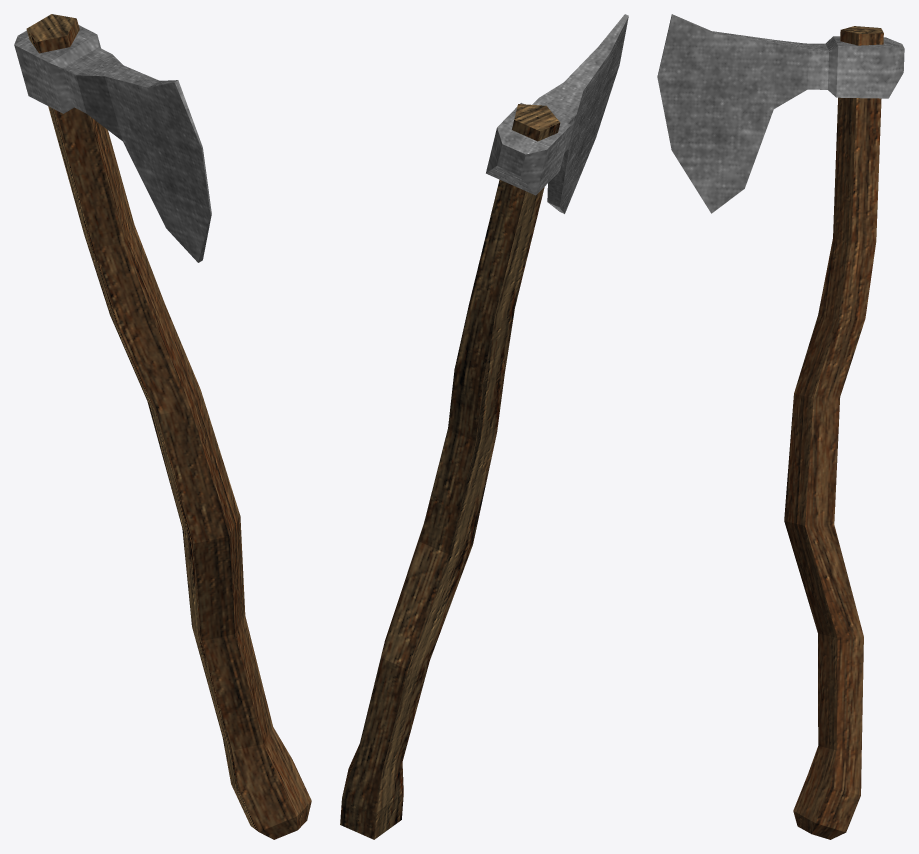
Rendered from Axe_FPS.gltf.
3 views of the same model, side by side, from view 1: azimuth 30°, elevation 25°; view 2: azimuth 150°, elevation 25°; view 3: azimuth 270°, elevation 25° (orthographic). The views are drawn at different scales.
Parts seen in each view (by area): view 1: Axe Handle, Axe Head; view 2: Axe Handle, Axe Head; view 3: Axe Handle, Axe Head.
Part boxes in pixels (box(x1,y1,x2,y2)): Axe Handle: box(26, 14, 311, 839); Axe Head: box(14, 25, 211, 262); Axe Handle: box(340, 104, 560, 839); Axe Head: box(486, 14, 628, 213); Axe Handle: box(784, 26, 883, 839); Axe Head: box(657, 14, 904, 213).
Bounding box in the file's own units: 0.5475 × 1.76 × 0.5308.
Materials: 2 (2 with a texture image).
